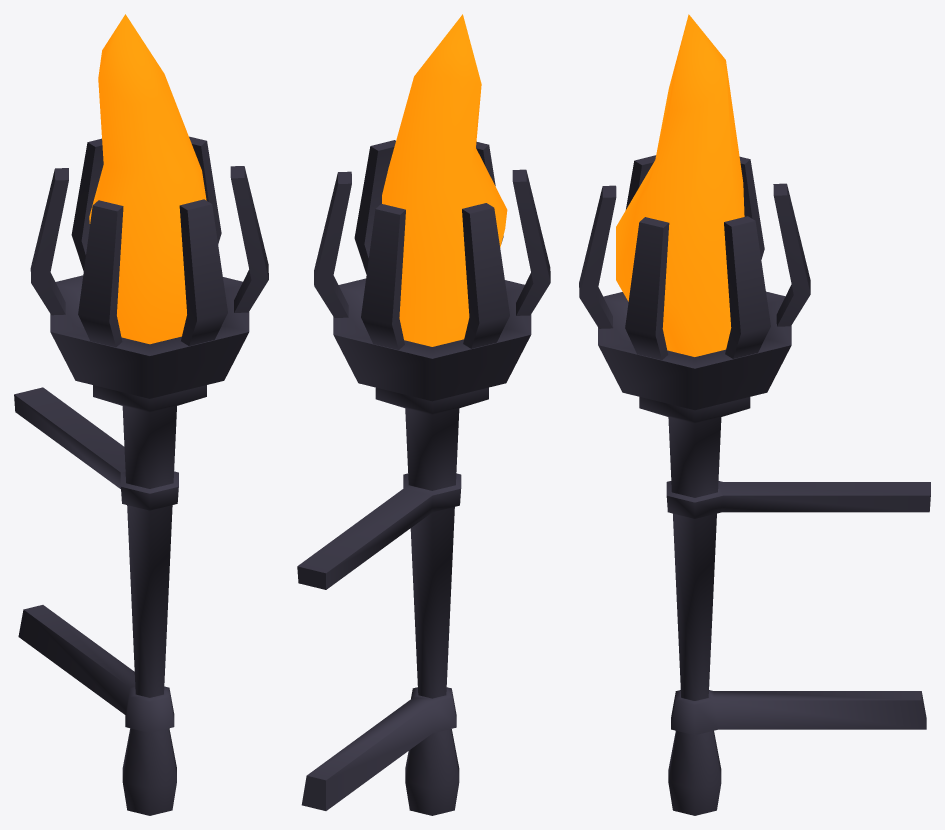
File: Sconce.glb
The picture shows the model from 3 angles, left to right: view 1: azimuth 30°, elevation 25°; view 2: azimuth 150°, elevation 25°; view 3: azimuth 270°, elevation 25°; orthographic projection. The views are drawn at different scales.
Visible parts, largest first — view 1: Base, Flame; view 2: Base, Flame; view 3: Base, Flame.
Part boxes in pixels (left/top/right/bottom): Base: left=14, top=136, right=268, bottom=815; Flame: left=89, top=14, right=206, bottom=344; Base: left=297, top=140, right=550, bottom=815; Flame: left=382, top=14, right=507, bottom=346; Base: left=579, top=155, right=930, bottom=815; Flame: left=616, top=14, right=744, bottom=356.
Size of the model in its own units: 0.2783 by 1.07 by 0.4376.
